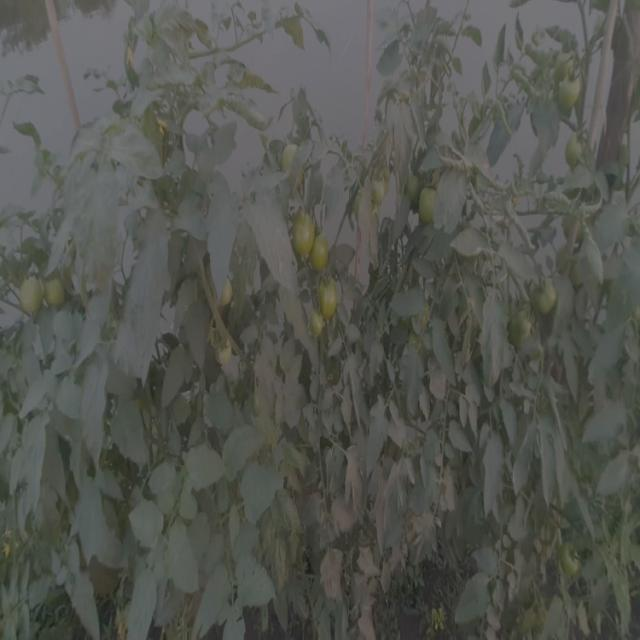tomato: (553, 58, 588, 114), (534, 275, 562, 318), (290, 208, 311, 263), (272, 140, 303, 177), (45, 272, 70, 317), (311, 240, 337, 278), (21, 268, 41, 313), (560, 543, 585, 578), (316, 282, 339, 320), (565, 137, 587, 173), (420, 190, 443, 220), (370, 175, 389, 207), (215, 344, 236, 372), (219, 286, 237, 312), (313, 321, 329, 345)
